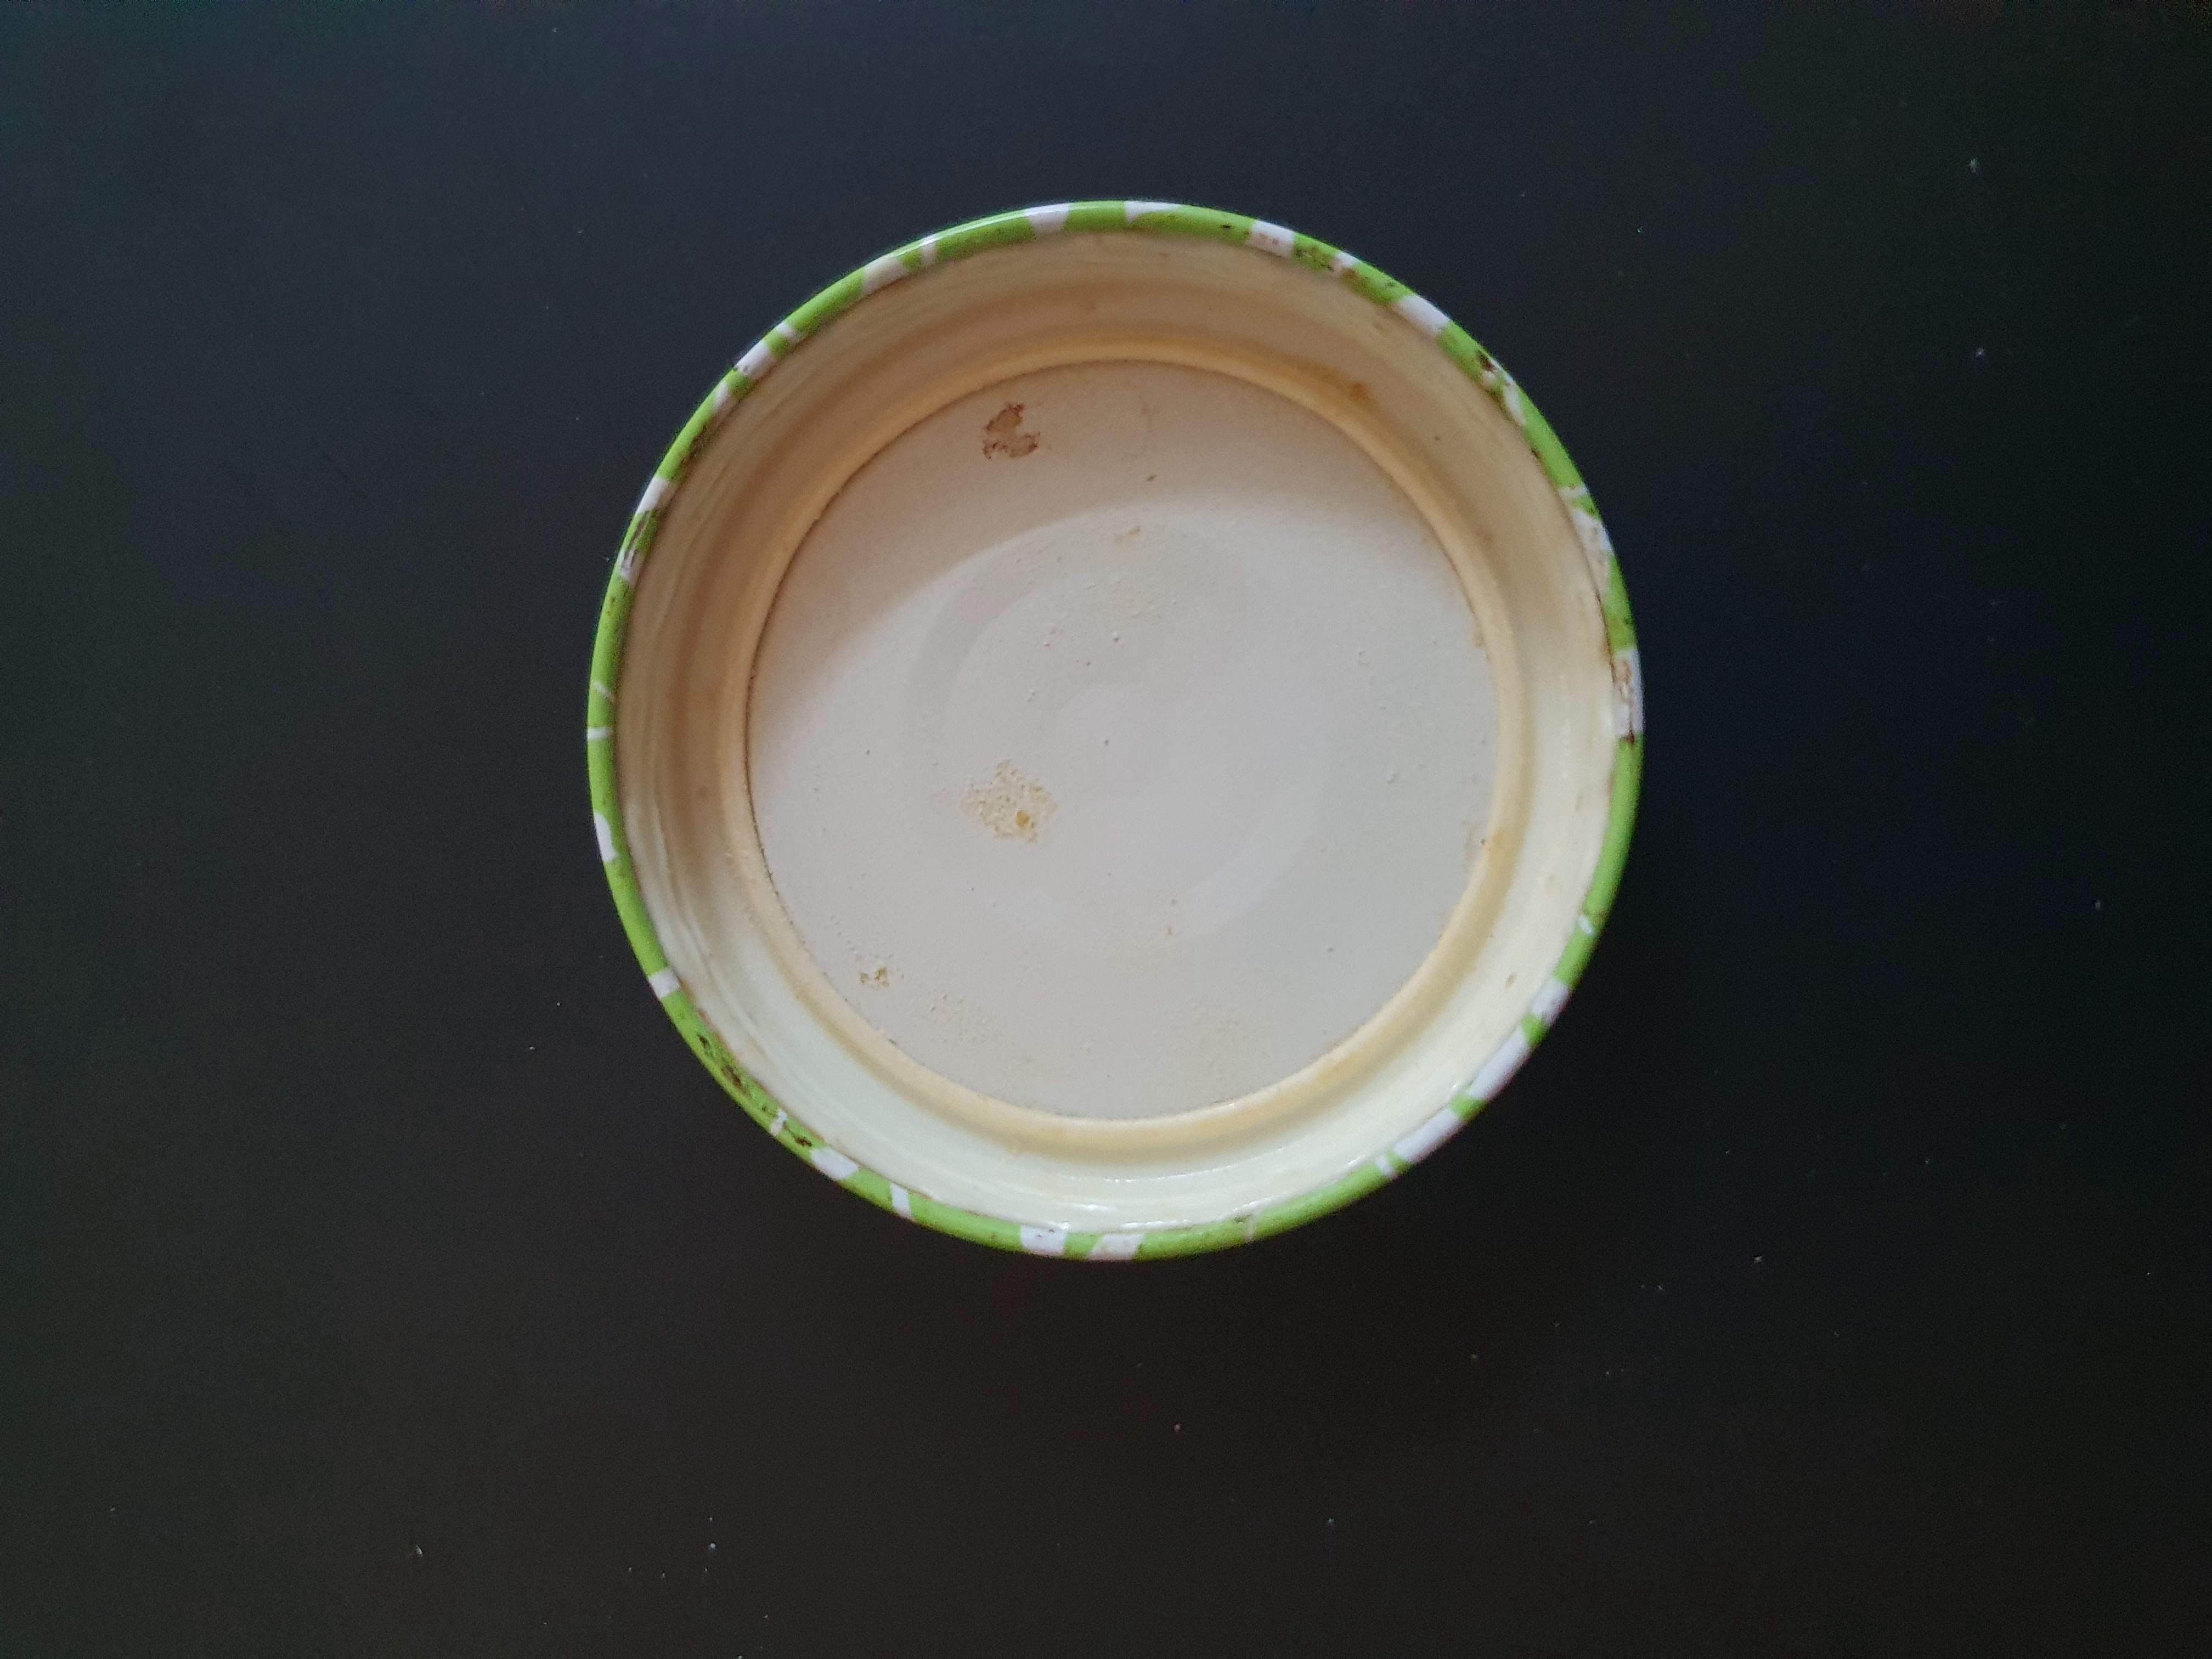metal: (557, 138, 1684, 1290)
